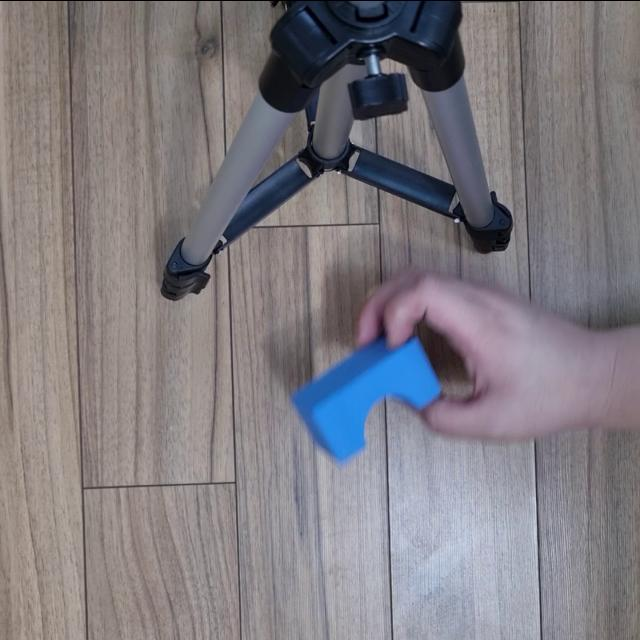block: (289, 330, 443, 465)
hand: (348, 272, 594, 448)
